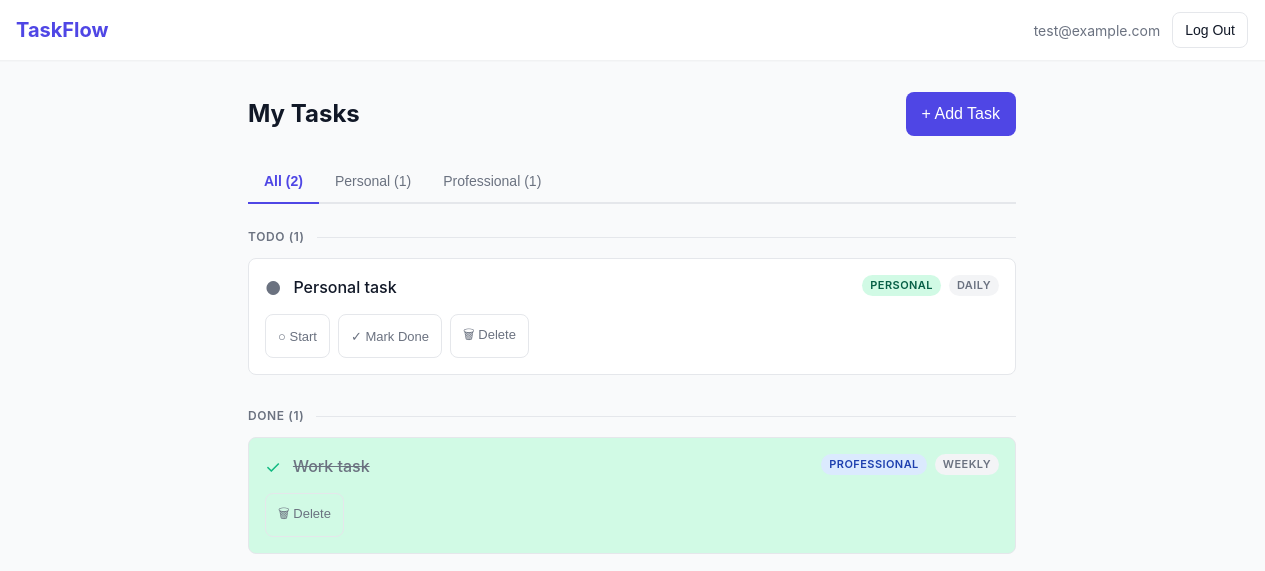
Scenario: Dashboard — category filter › filters to PROFESSIONAL tasks when Professional tab clicked
The width and height of the screenshot is (1265, 571).
expect the text "Work task" is shown: met, box [293, 456, 370, 476]
Click the tab "Professional (1)".
click(492, 182)  # box [427, 160, 557, 204]
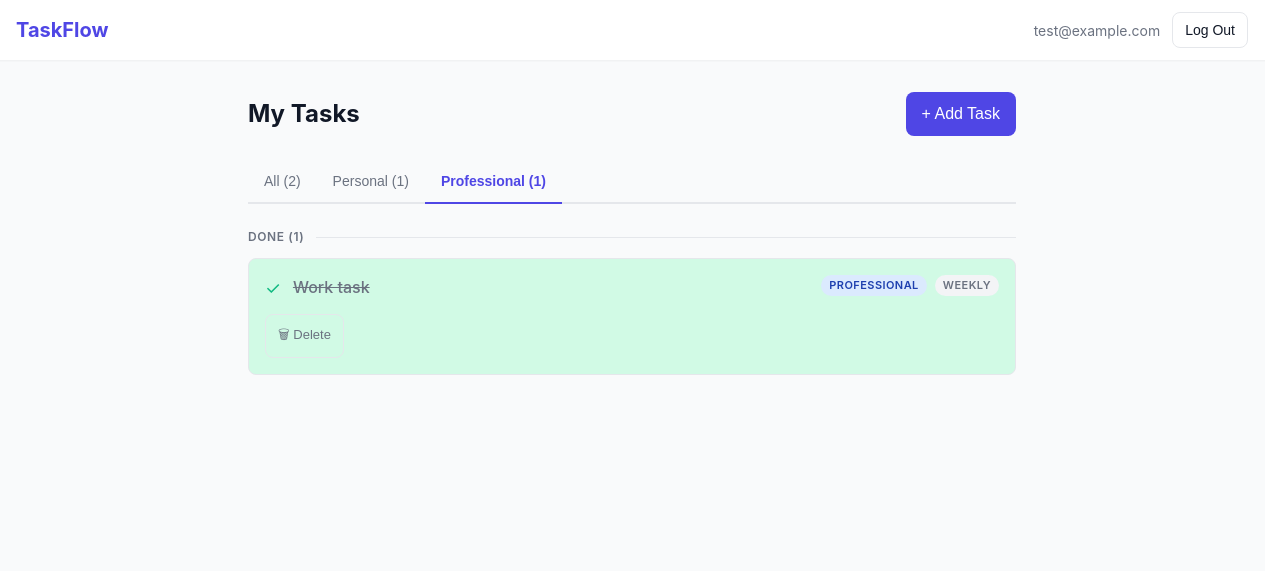
expect the text "Work task" is shown: met, box [293, 277, 370, 297]
expect the text "Personal task" is gone: met
